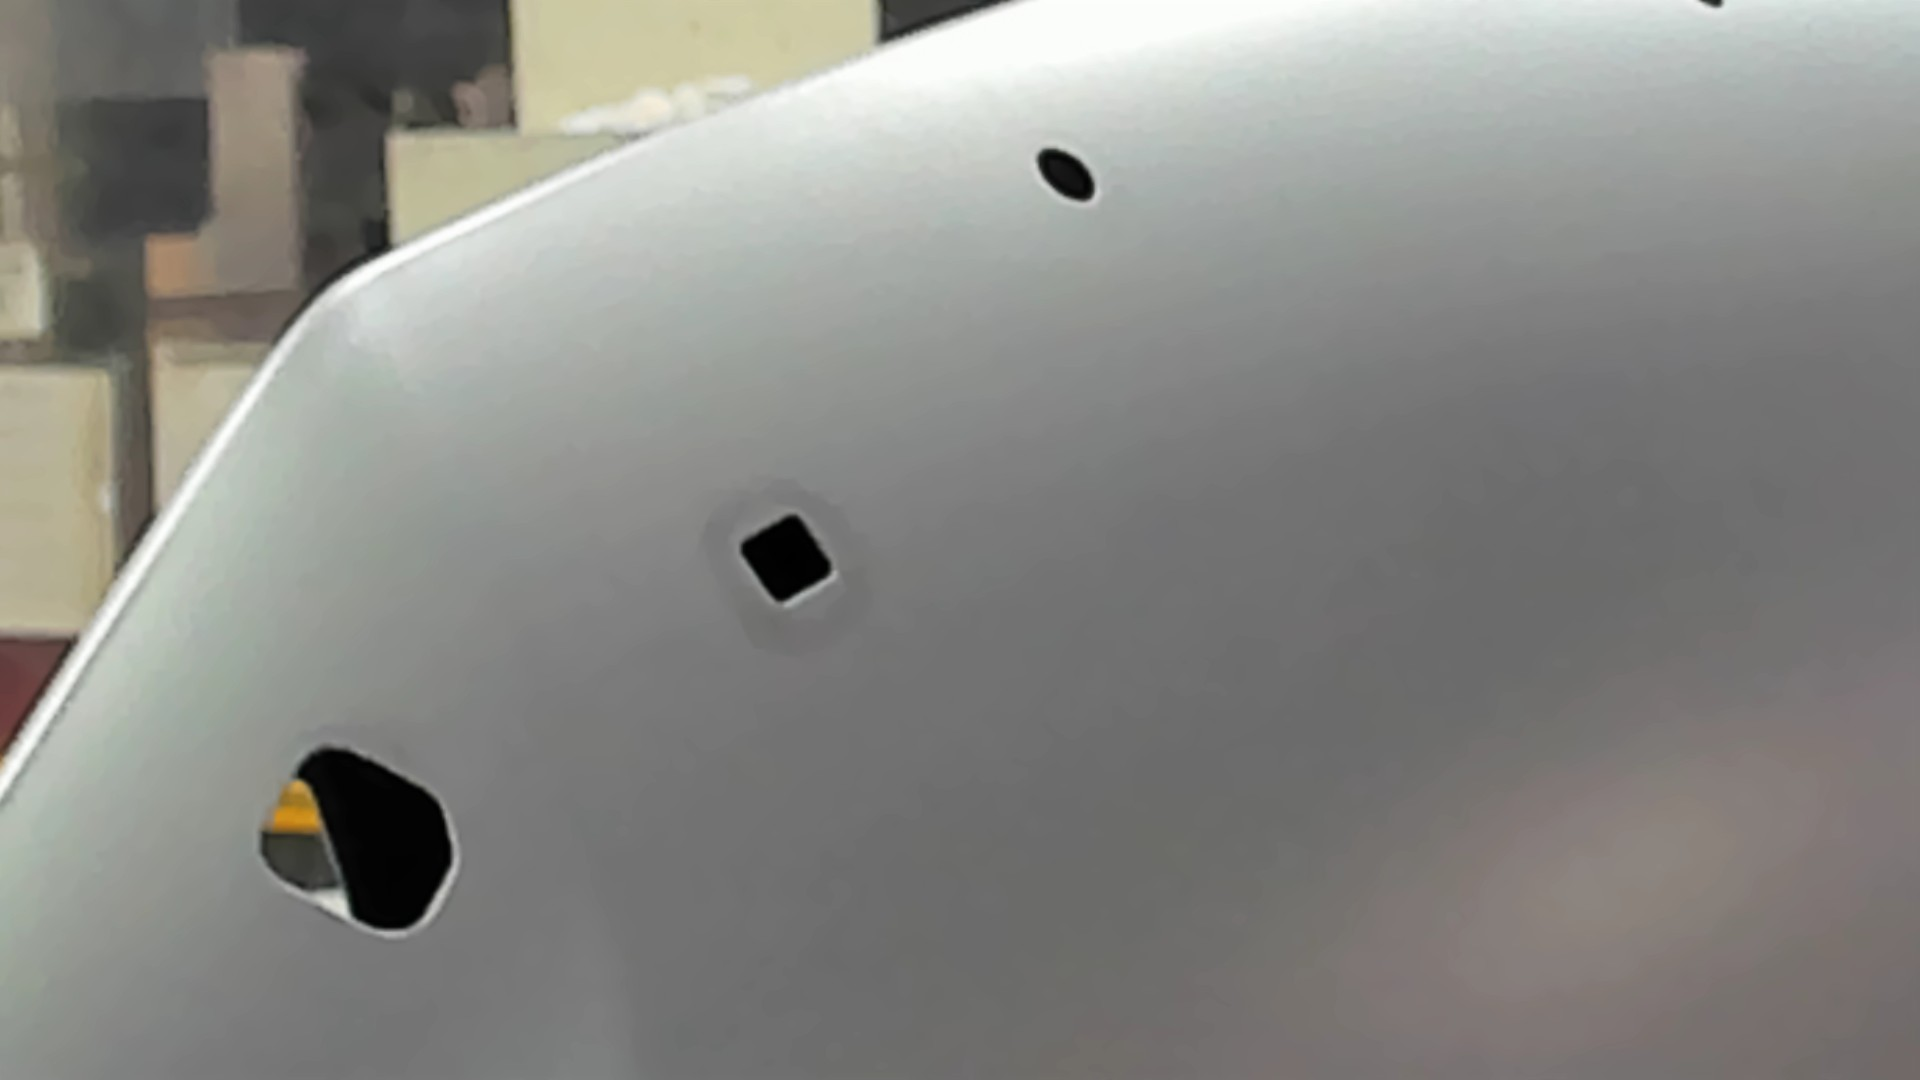chico: (1033, 142, 1102, 206), (1696, 1, 1729, 18)
grande: (248, 737, 465, 947)
mediano: (729, 508, 843, 611)
